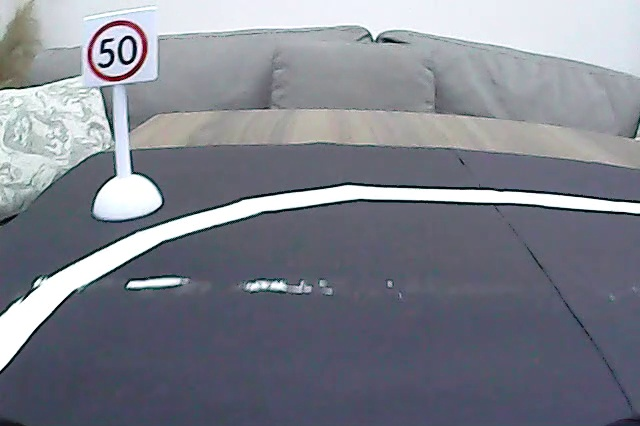speed limit 50: (85, 17, 150, 84)
